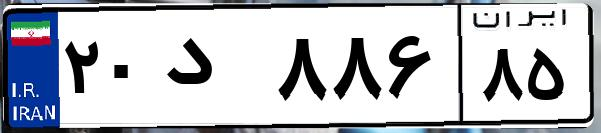0: (110, 28, 158, 98)
2: (57, 26, 110, 100)
5: (525, 38, 570, 115)
6: (385, 28, 445, 110)
8: (270, 28, 330, 110), (330, 28, 385, 110), (475, 38, 525, 113)
د: (158, 20, 270, 120)
